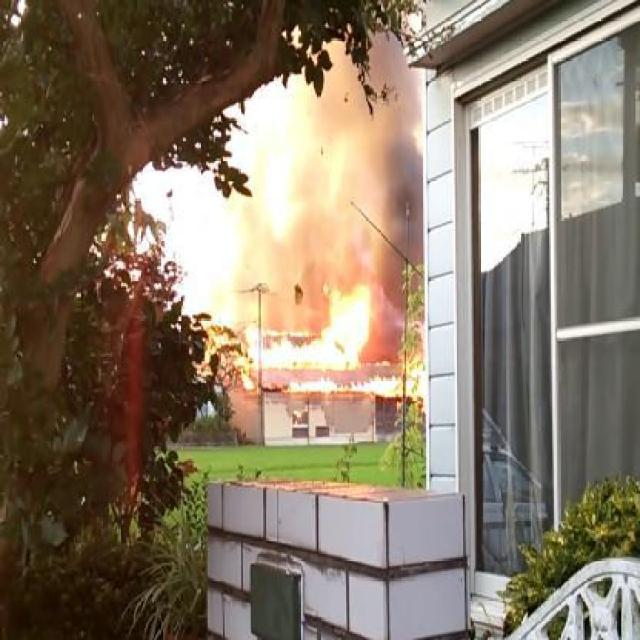Fire: (248, 292, 362, 368), (207, 330, 255, 388), (286, 378, 399, 400), (372, 354, 390, 368)
